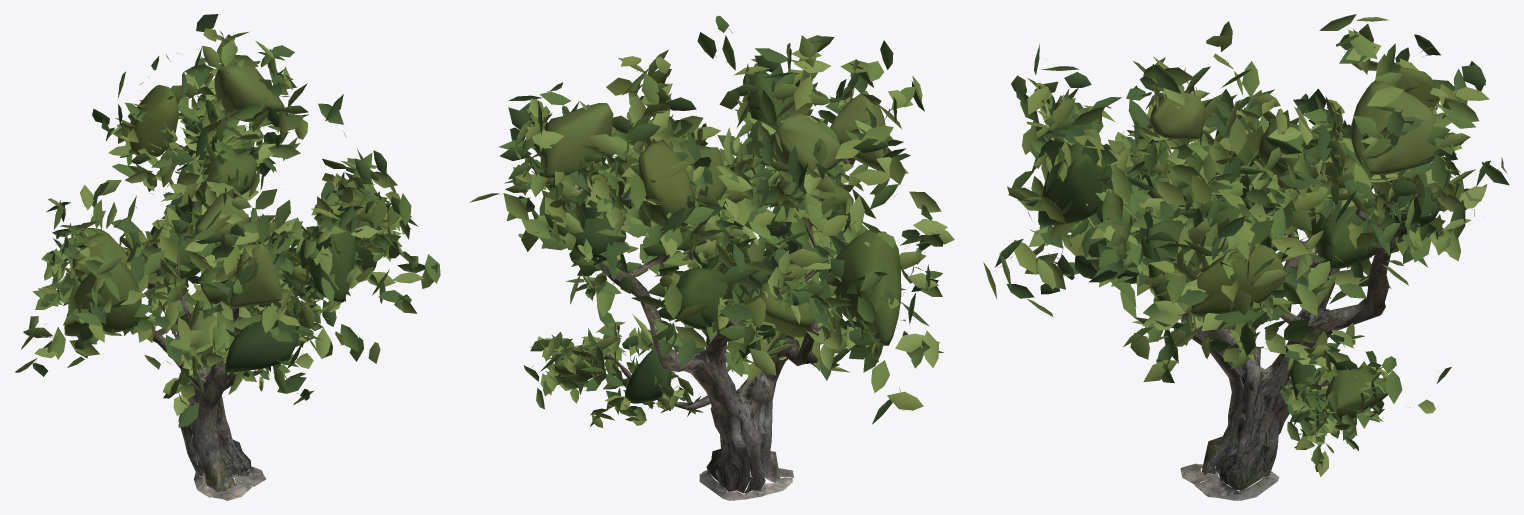
Rendered from island_tree_recessed_canopy.glb.
The picture shows the model from 3 angles, left to right: view 1: azimuth 30°, elevation 25°; view 2: azimuth 150°, elevation 25°; view 3: azimuth 270°, elevation 25°; orthographic projection. The views are drawn at different scales.
Visible parts, largest first — view 1: Complete_leaf_canopy_2200, island_tree_01_LOD0.001, island_tree_01_LOD0; view 2: Complete_leaf_canopy_2200, island_tree_01_LOD0.001, island_tree_01_LOD0; view 3: Complete_leaf_canopy_2200, island_tree_01_LOD0.001, island_tree_01_LOD0.
Boxes of the visible parts, bbox=[...] form: Complete_leaf_canopy_2200: bbox=[15, 14, 440, 427]; island_tree_01_LOD0.001: bbox=[66, 179, 298, 500]; island_tree_01_LOD0: bbox=[33, 30, 424, 400]; Complete_leaf_canopy_2200: bbox=[469, 15, 954, 427]; island_tree_01_LOD0.001: bbox=[585, 158, 849, 500]; island_tree_01_LOD0: bbox=[496, 28, 925, 420]; Complete_leaf_canopy_2200: bbox=[983, 14, 1509, 476]; island_tree_01_LOD0.001: bbox=[1115, 151, 1417, 500]; island_tree_01_LOD0: bbox=[997, 22, 1498, 445].
Size of the model in its own units: 4.77 by 4.93 by 4.8.
3 materials, 2 textured.
